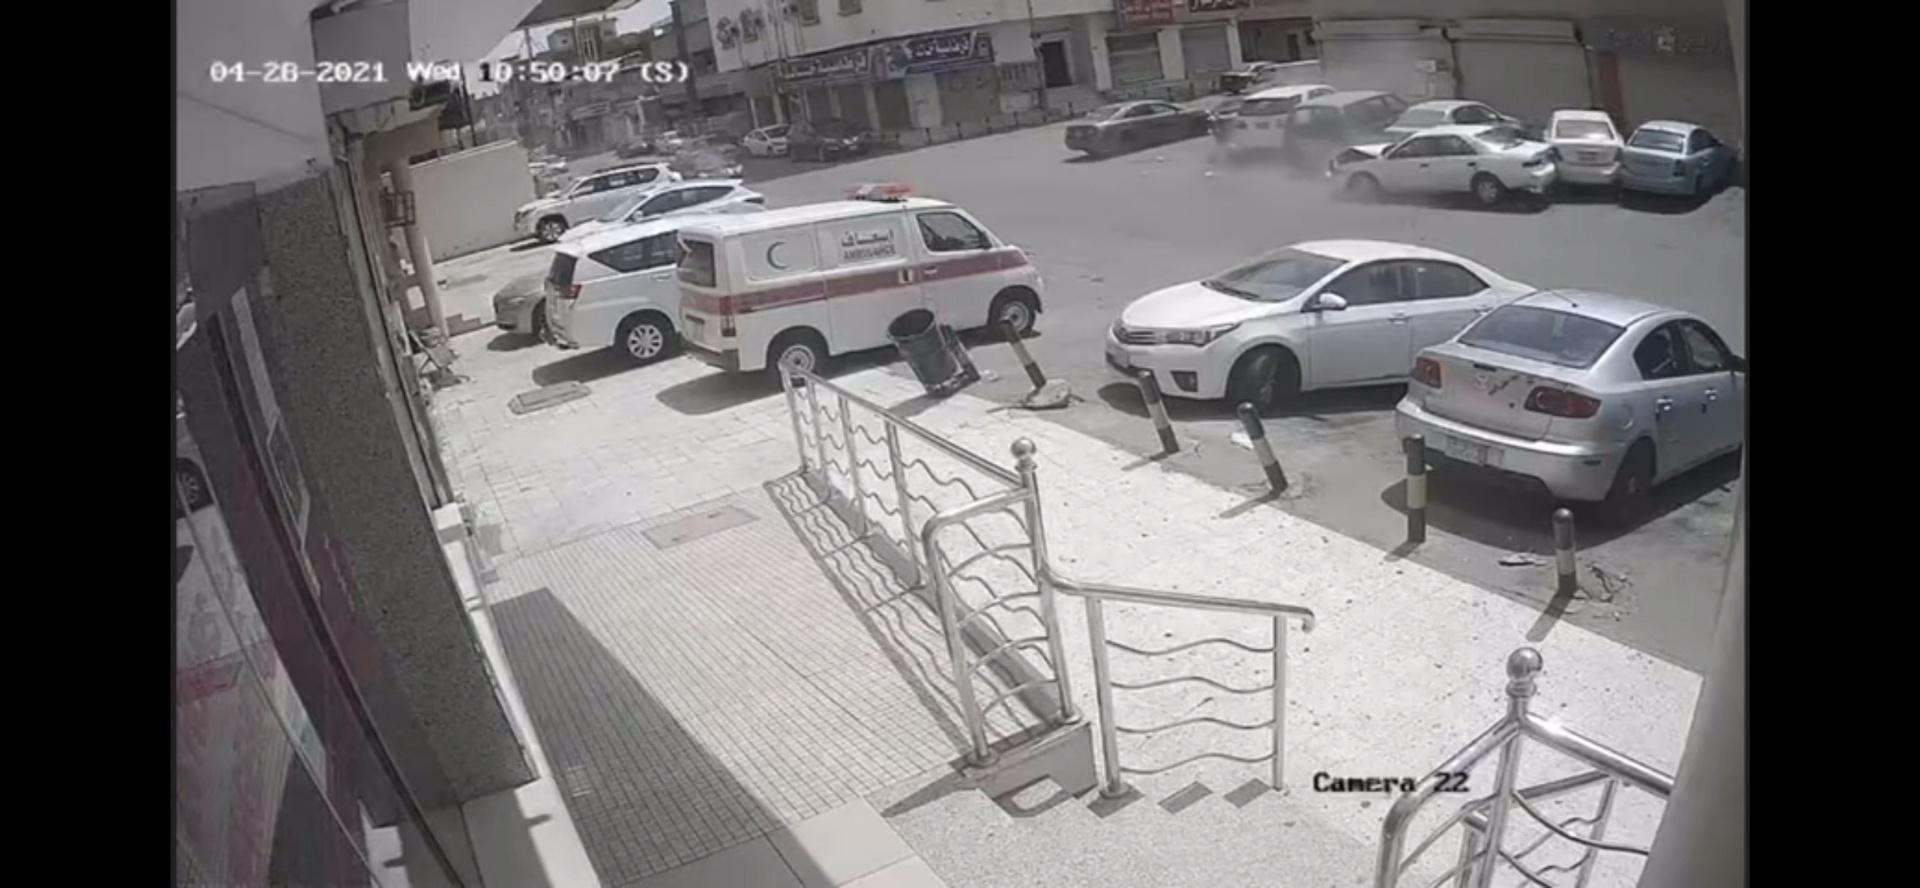car-accident: (1318, 96, 1573, 214)
